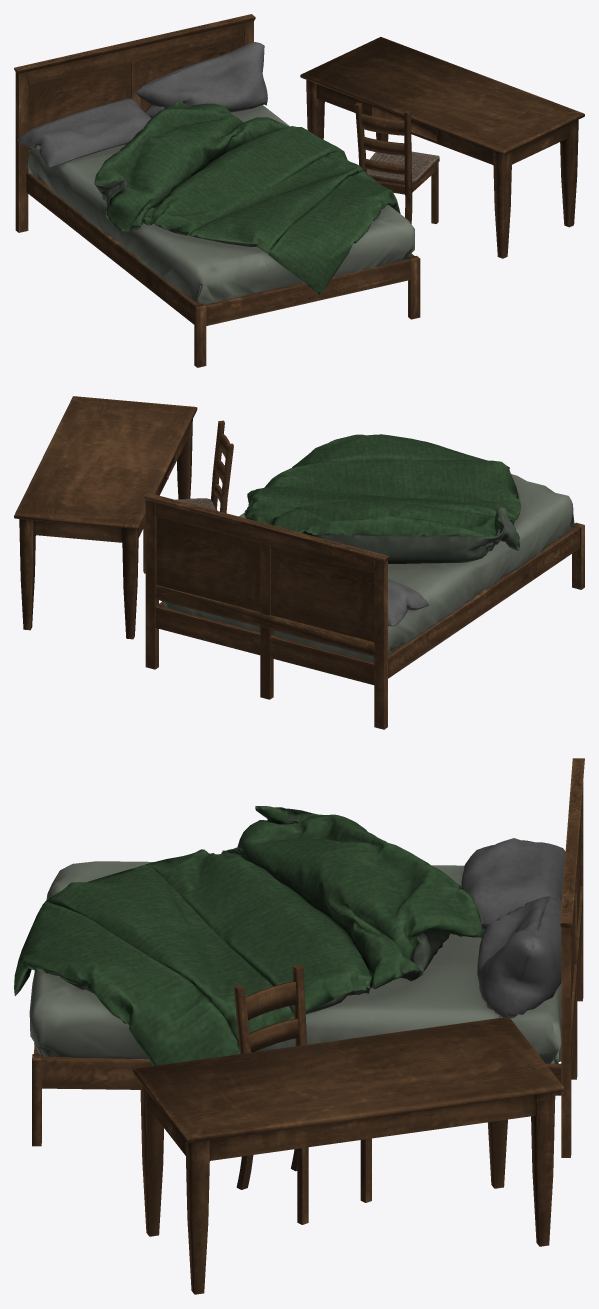
Rendered from o3_camera_da_letto.glb.
The picture shows the model from 3 angles, top to bottom: view 1: azimuth 30°, elevation 25°; view 2: azimuth 150°, elevation 25°; view 3: azimuth 270°, elevation 25°; orthographic projection. The views are drawn at different scales.
Visible parts, largest first — view 1: sb_modello; view 2: sb_modello; view 3: sb_modello.
Part boxes in pixels (x1,y1,x2,y2): sb_modello: (14,14,584,367); sb_modello: (14,396,584,729); sb_modello: (14,758,584,1294).
Bounding box in the file's own units: 3.85 × 1.33 × 2.92.
Materials: 1 (1 with a texture image).
